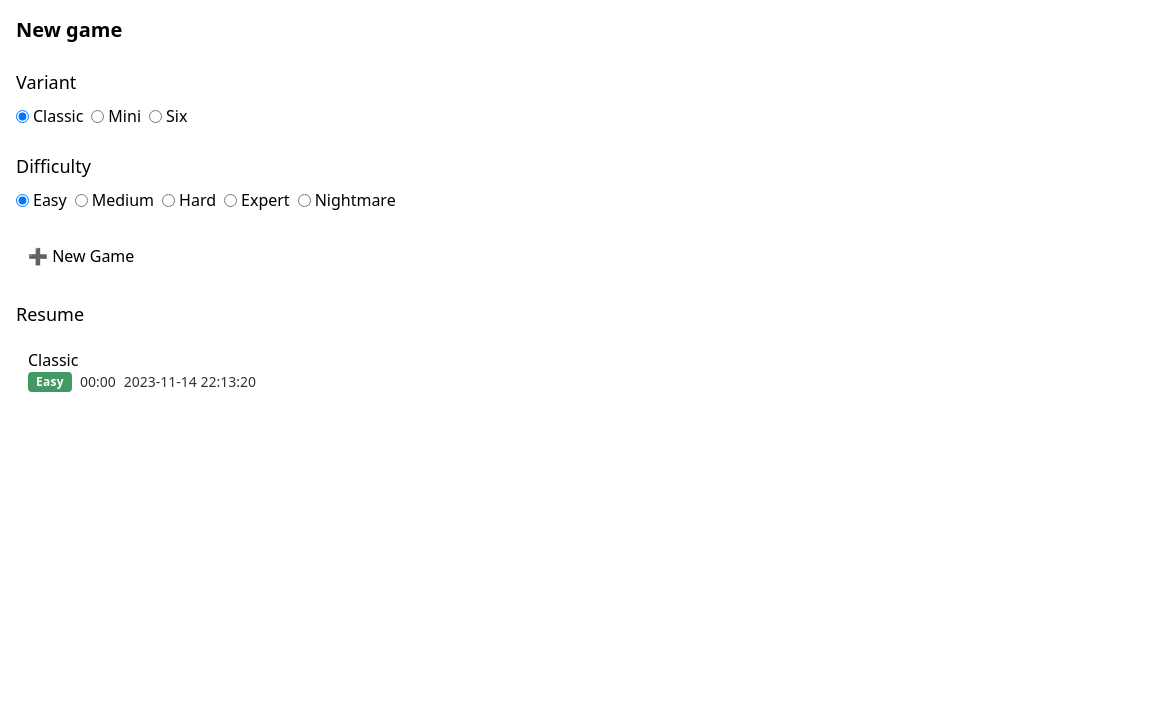
Scenario: Home screen › clicking New Game with an existing save opens a ConfirmDialog before replacing
// Clicking New Game opens the dialog and does NOT call newGame yet.
Click the button with test id "home-new-game". click: click(81, 256)
box: 16,236 -> 146,276
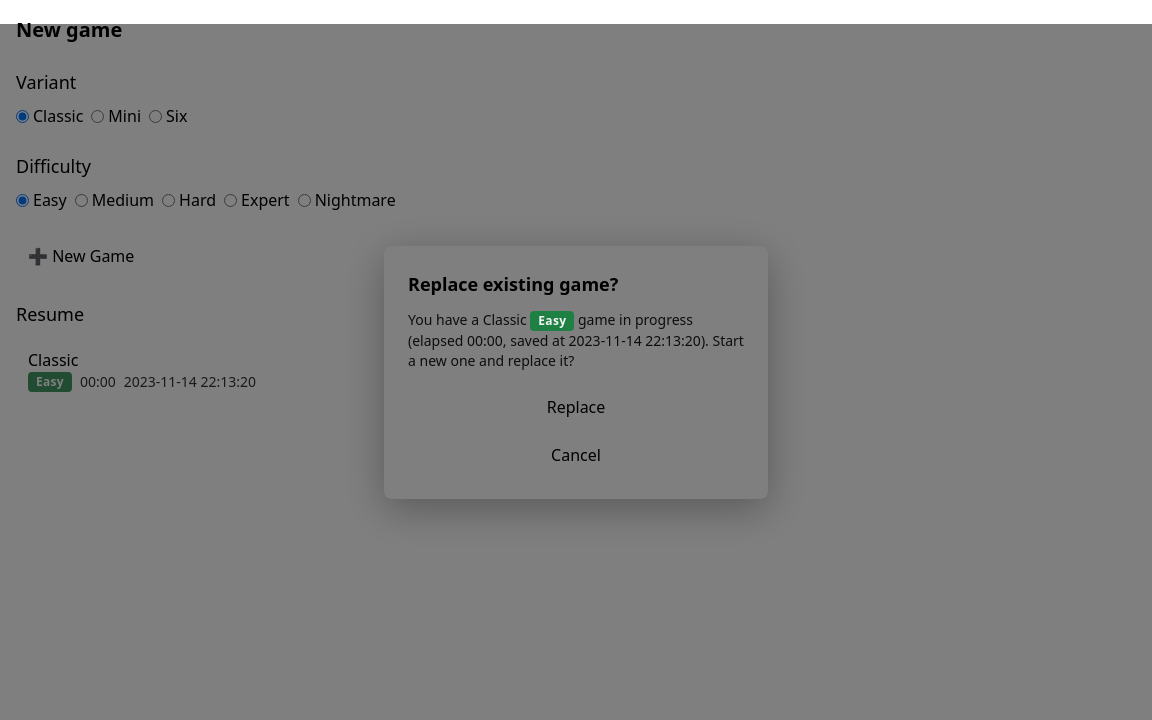
Now the dialog with test id "confirm-dialog" is shown
// Cancelling closes the dialog and still does NOT call newGame.
Click the button with test id "confirm-dialog-cancel". click: click(576, 454)
box: 408,434 -> 744,474
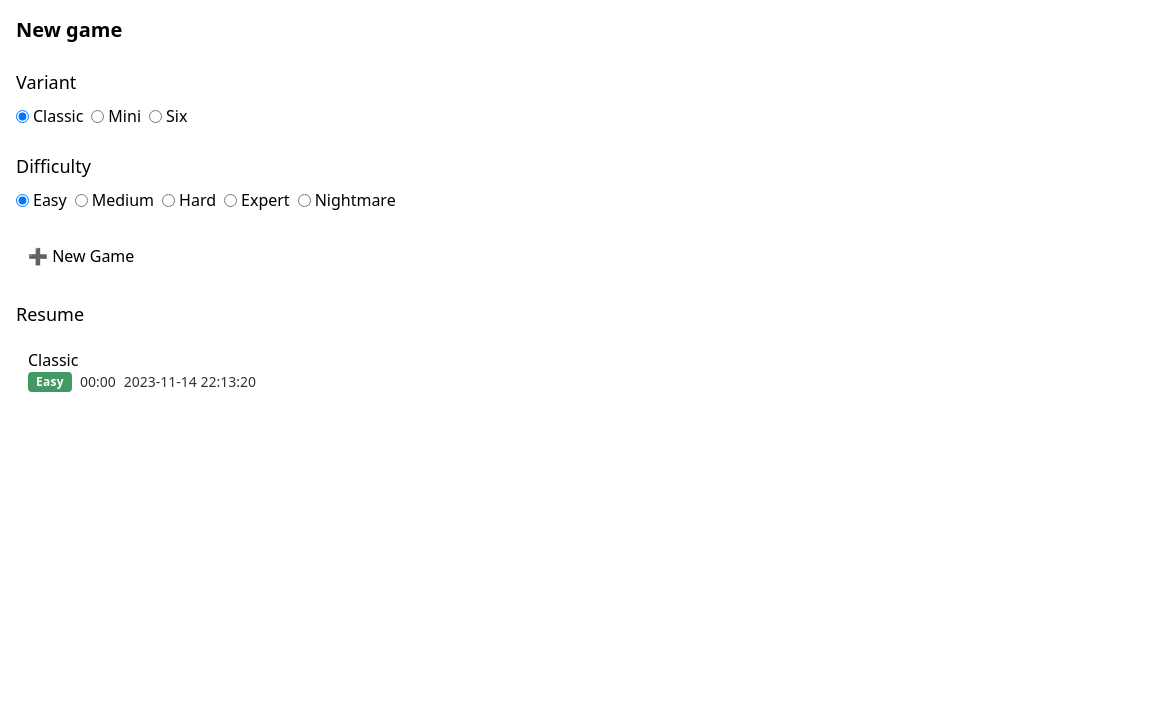
Now the dialog with test id "confirm-dialog" is gone
// Reopen the dialog and confirm — newGame is called exactly once.
Click the button with test id "home-new-game". click: click(81, 256)
box: 16,236 -> 146,276
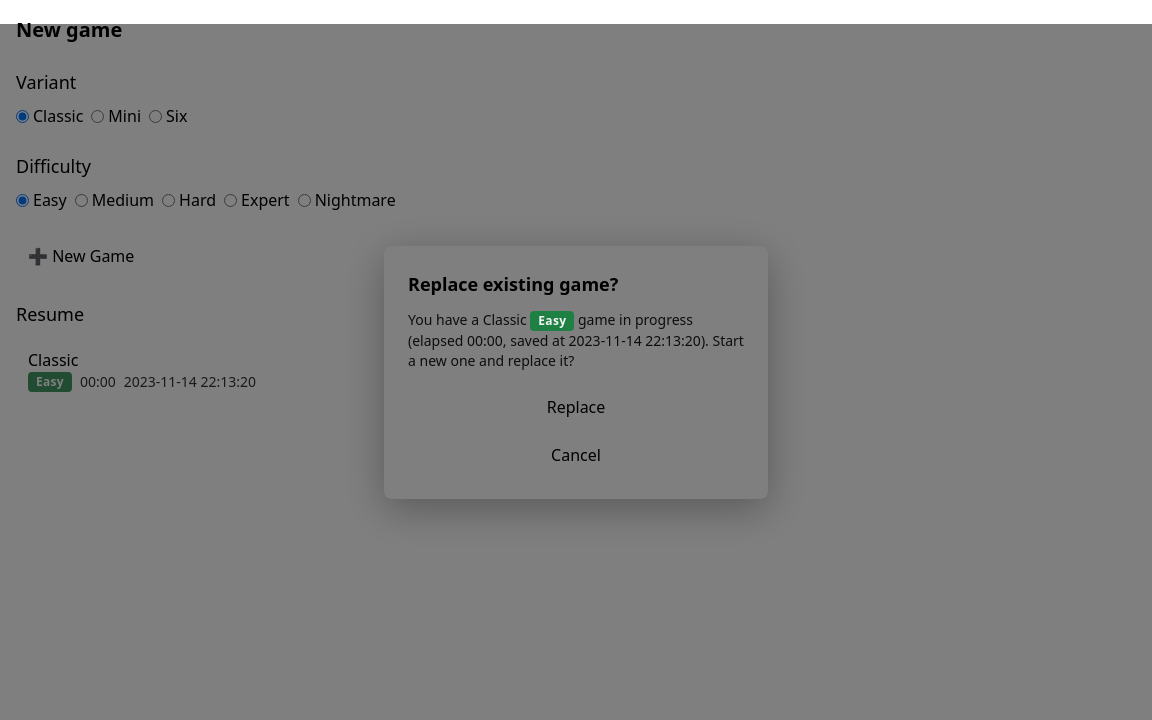
Now the dialog with test id "confirm-dialog" is shown
Click the button with test id "confirm-dialog-confirm". click: click(576, 406)
box: 408,386 -> 744,426
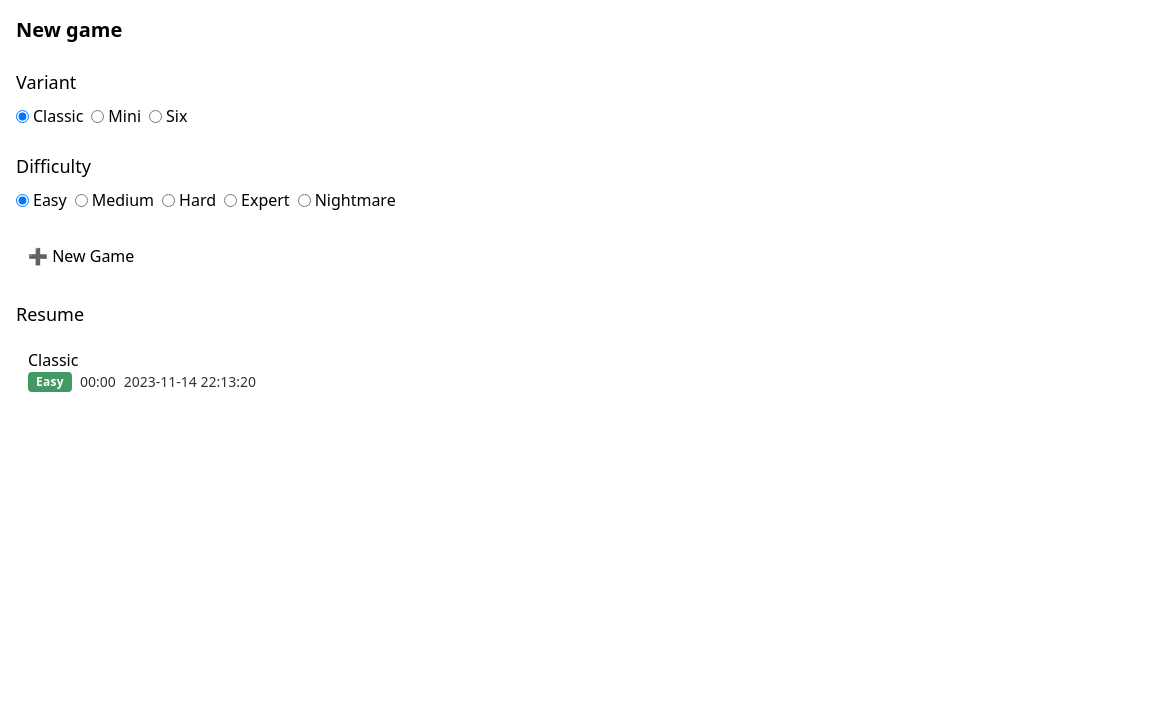
Now the dialog with test id "confirm-dialog" is gone
